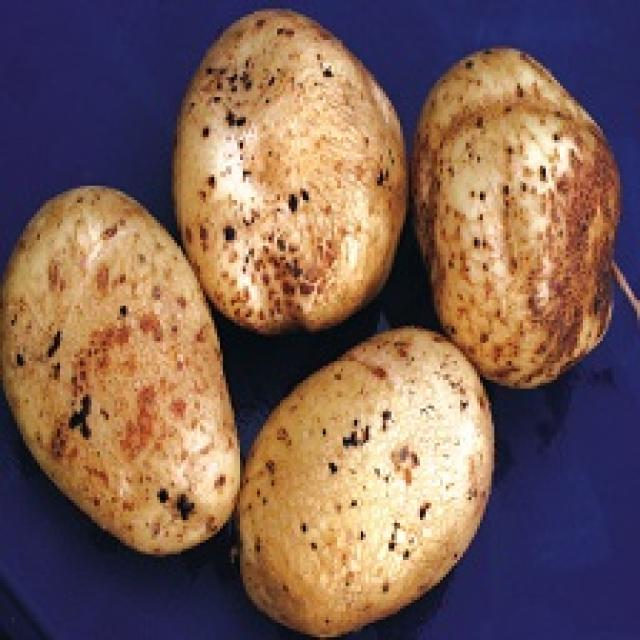black_scurf: (0, 175, 246, 562), (232, 312, 512, 640), (408, 20, 640, 400), (163, 0, 417, 343)
